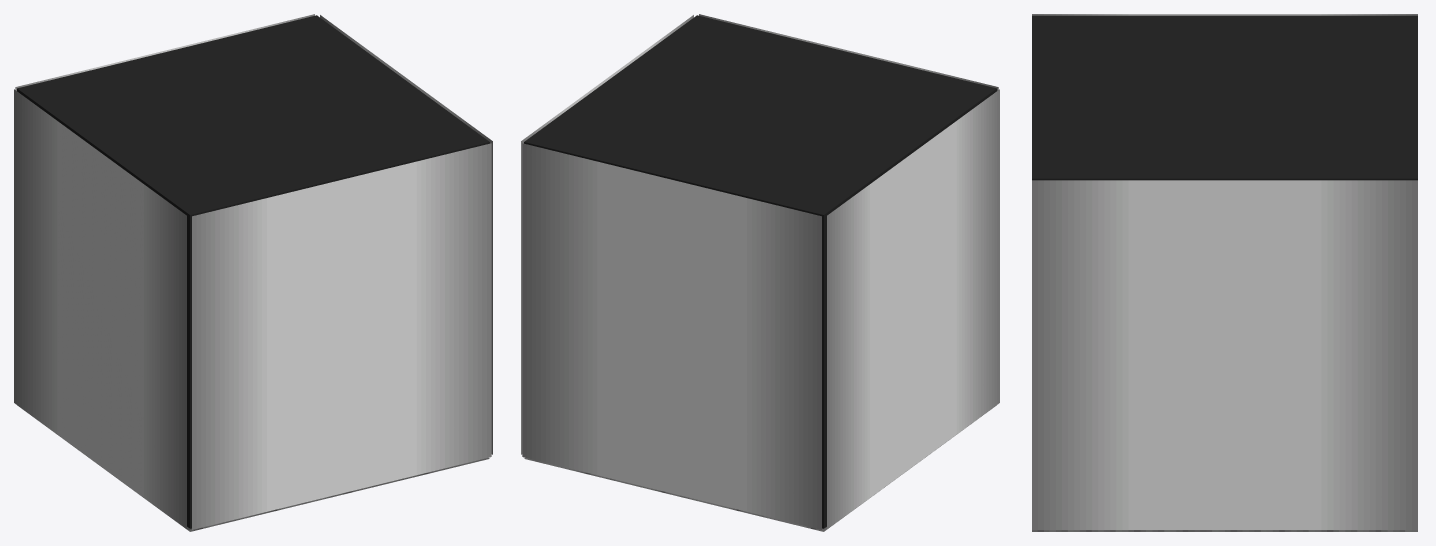
File: powercell.obj
The picture shows the model from 3 angles, left to right: view 1: azimuth 30°, elevation 25°; view 2: azimuth 150°, elevation 25°; view 3: azimuth 270°, elevation 25°; orthographic projection. The views are drawn at different scales.
Parts seen in each view (by area): view 1: Powercell2, Powercell3, Powercell1, Powercell4, Powercell6, Powercell5; view 2: Powercell5, Powercell3, Powercell1, Powercell4, Powercell6, Powercell2; view 3: Powercell4, Powercell1, Powercell3, Powercell6.
Boxes of the visible parts, box(x1,y1,x2,y2) form: Powercell2: box(192, 143, 491, 529); Powercell3: box(14, 89, 186, 528); Powercell1: box(17, 15, 489, 528); Powercell4: box(320, 15, 492, 454); Powercell6: box(17, 405, 489, 531); Powercell5: box(15, 14, 314, 90); Powercell5: box(522, 143, 821, 529); Powercell3: box(827, 89, 999, 528); Powercell1: box(524, 15, 996, 528); Powercell4: box(521, 15, 693, 454); Powercell6: box(524, 405, 996, 531); Powercell2: box(699, 14, 998, 90); Powercell4: box(1032, 180, 1417, 529); Powercell1: box(1032, 15, 1417, 180); Powercell3: box(1032, 14, 1417, 15); Powercell6: box(1032, 530, 1417, 531).
Bounding box in the file's own units: 2.04 × 2.02 × 2.04.
Materials: 3 (2 with a texture image).
